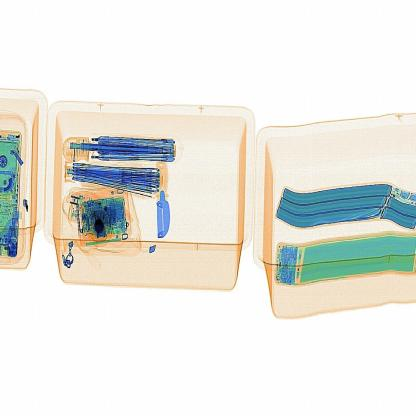wrench: (150, 154, 177, 244)
